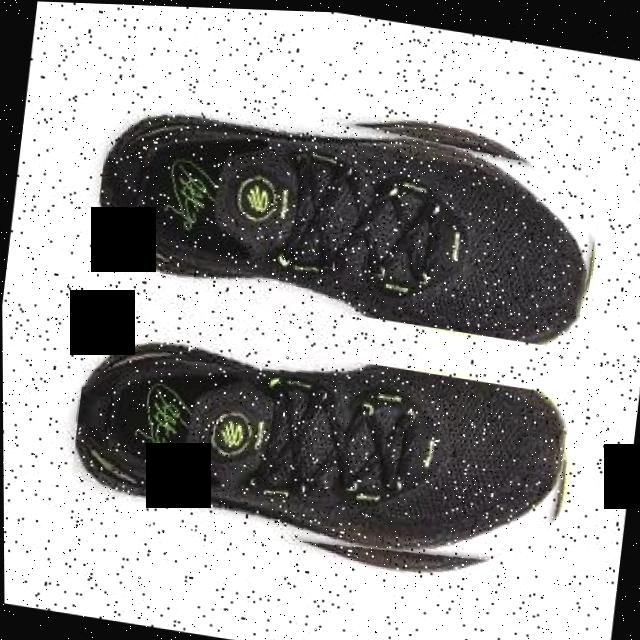shoe: (89, 70, 607, 348), (64, 317, 576, 592)
